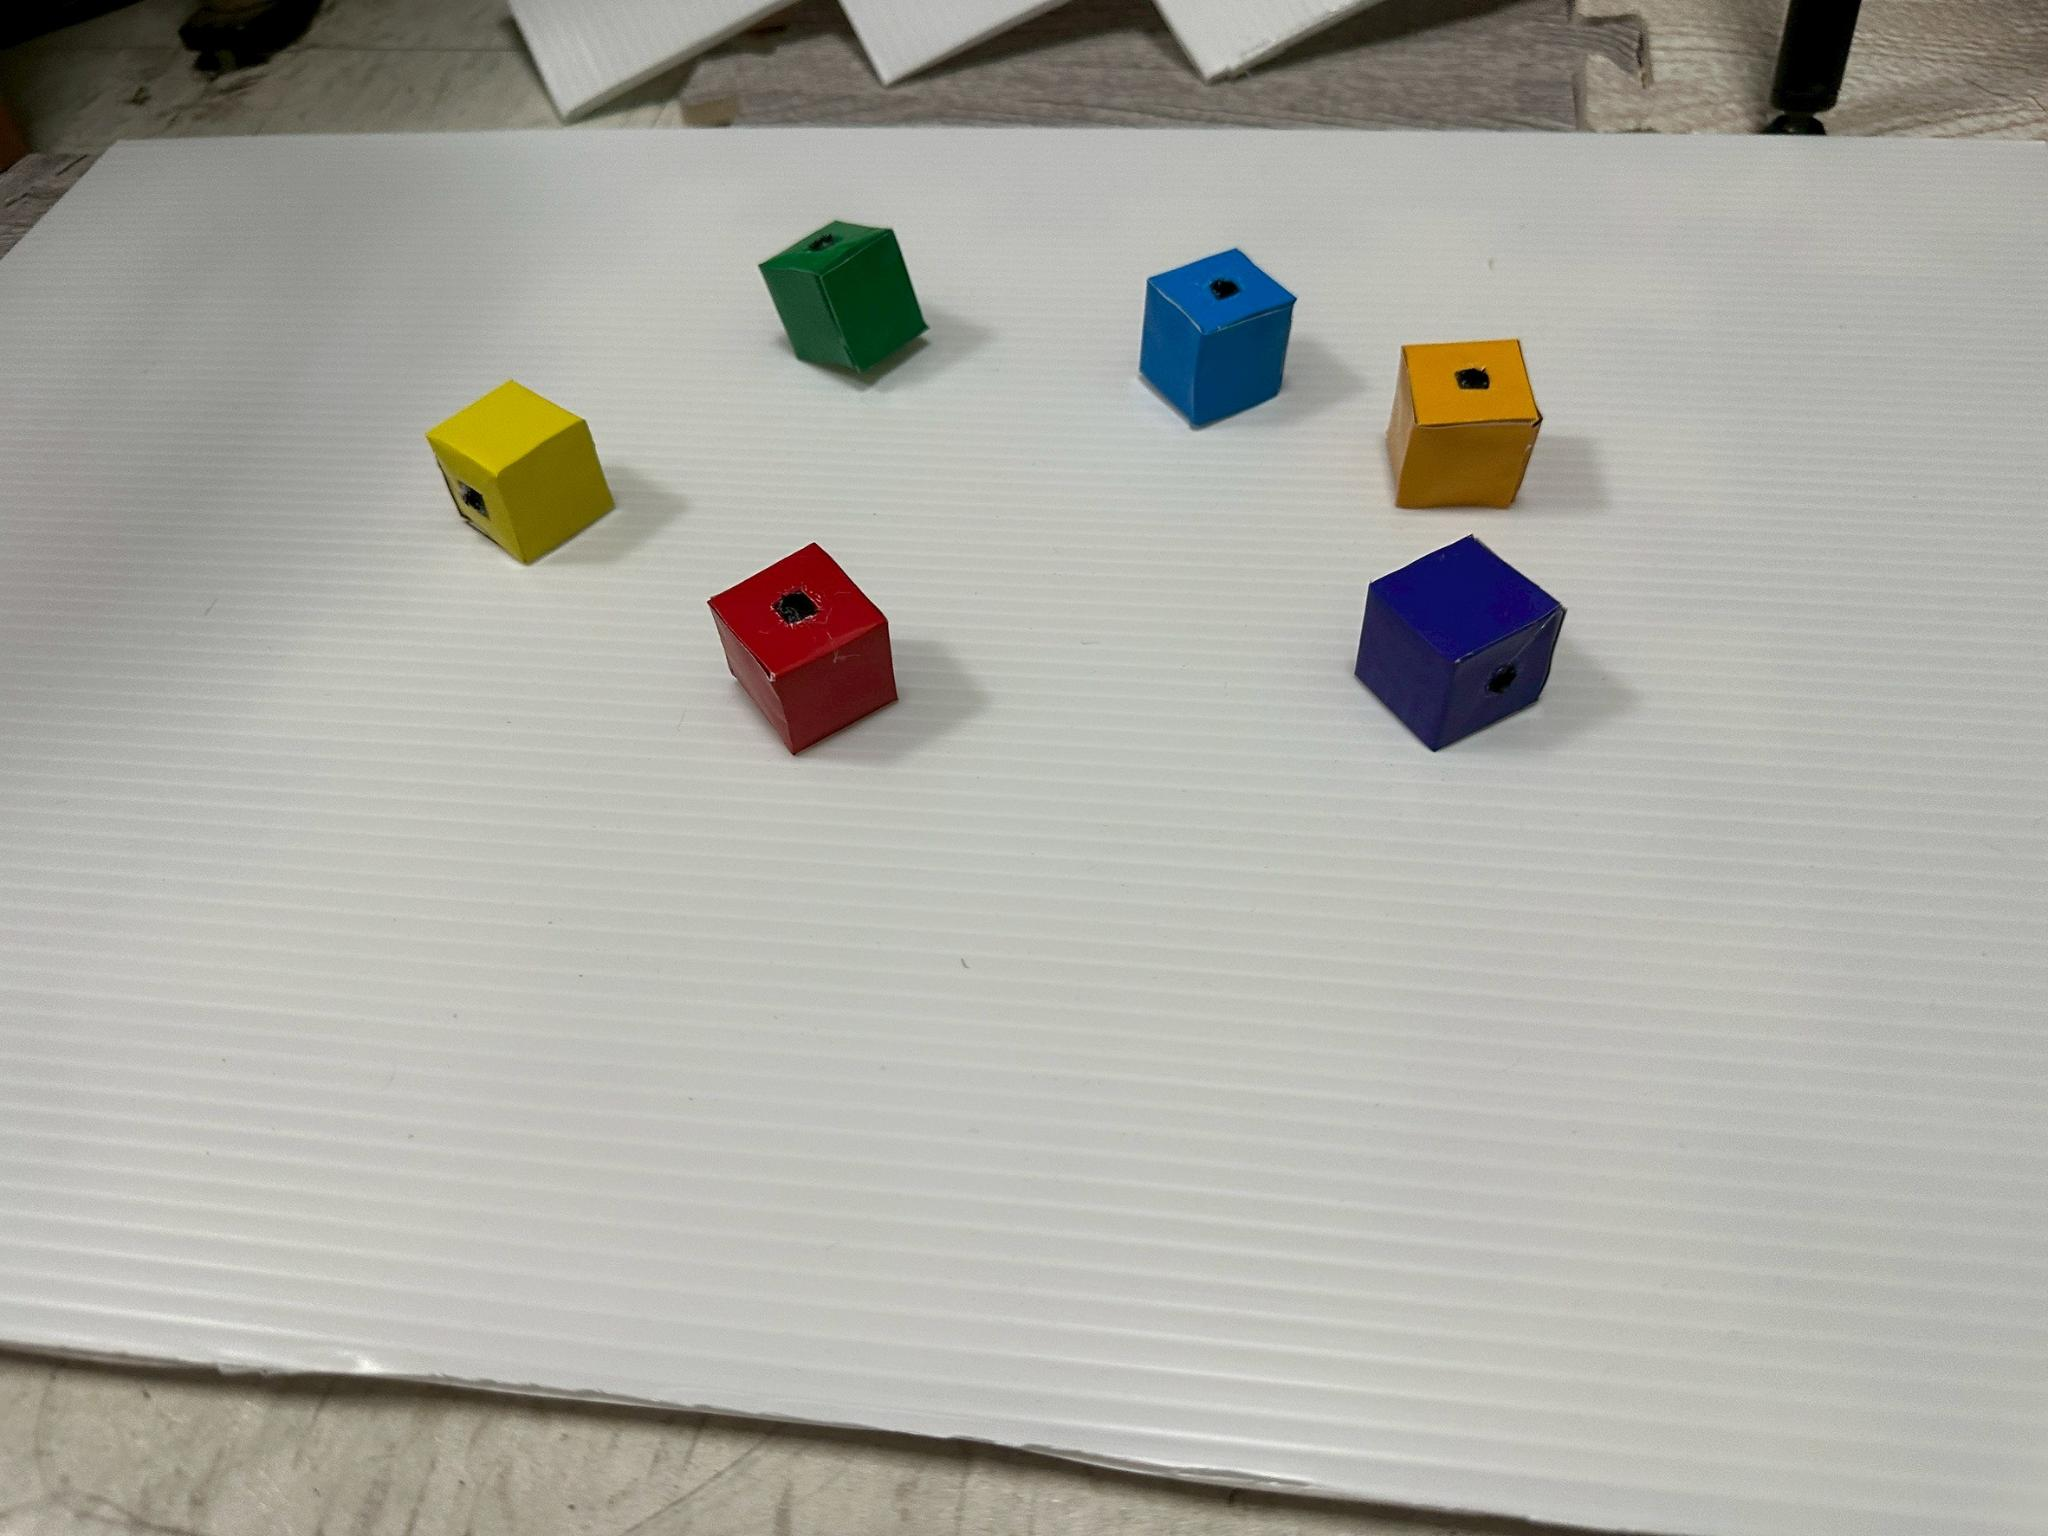base: (1358, 536, 1564, 750), (710, 544, 897, 753), (427, 381, 613, 561), (1138, 248, 1295, 428), (1387, 340, 1540, 508), (760, 221, 926, 373)
